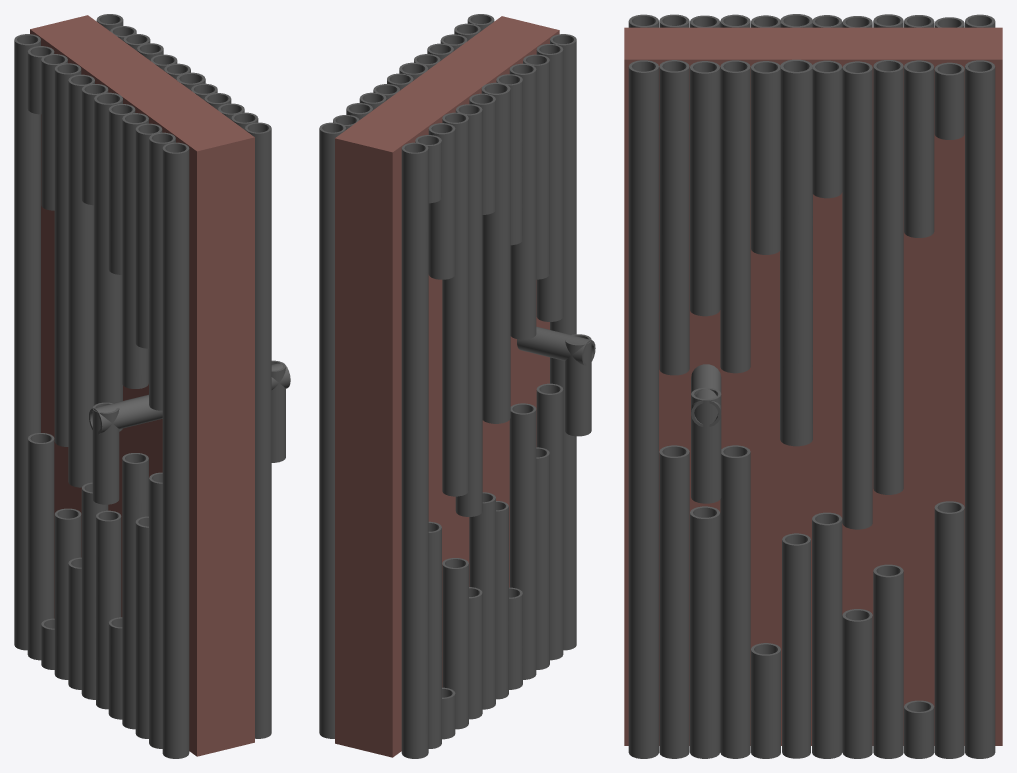
File: FactoryDoorB.S..FBX
3 views of the same model, side by side, from view 1: azimuth 30°, elevation 25°; view 2: azimuth 150°, elevation 25°; view 3: azimuth 270°, elevation 25° (orthographic). The views are drawn at different scales.
Parts seen in each view (by area): view 1: Tube076; view 2: Tube076; view 3: Tube076.
Boxes of the visible parts, x1,y1,x2,y2 form: Tube076: [14, 14, 290, 758]; Tube076: [319, 14, 595, 758]; Tube076: [624, 14, 1002, 758].
Bounding box in the file's own units: 65.51 × 200 × 100.
